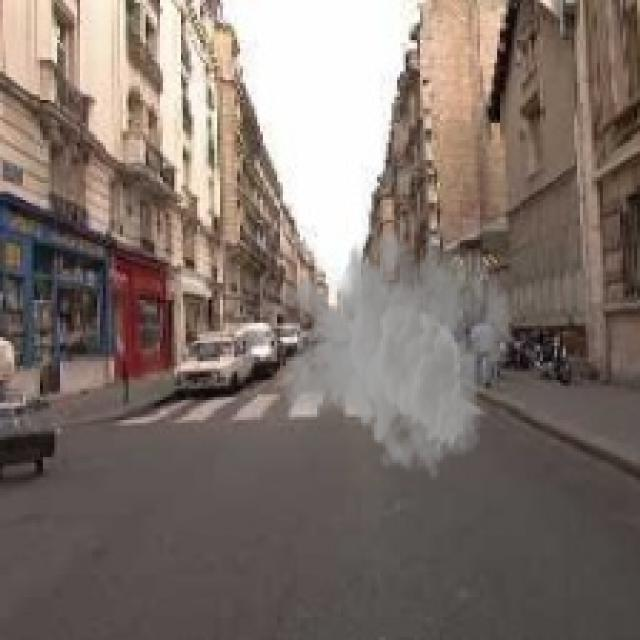smoke: (280, 203, 514, 483)
